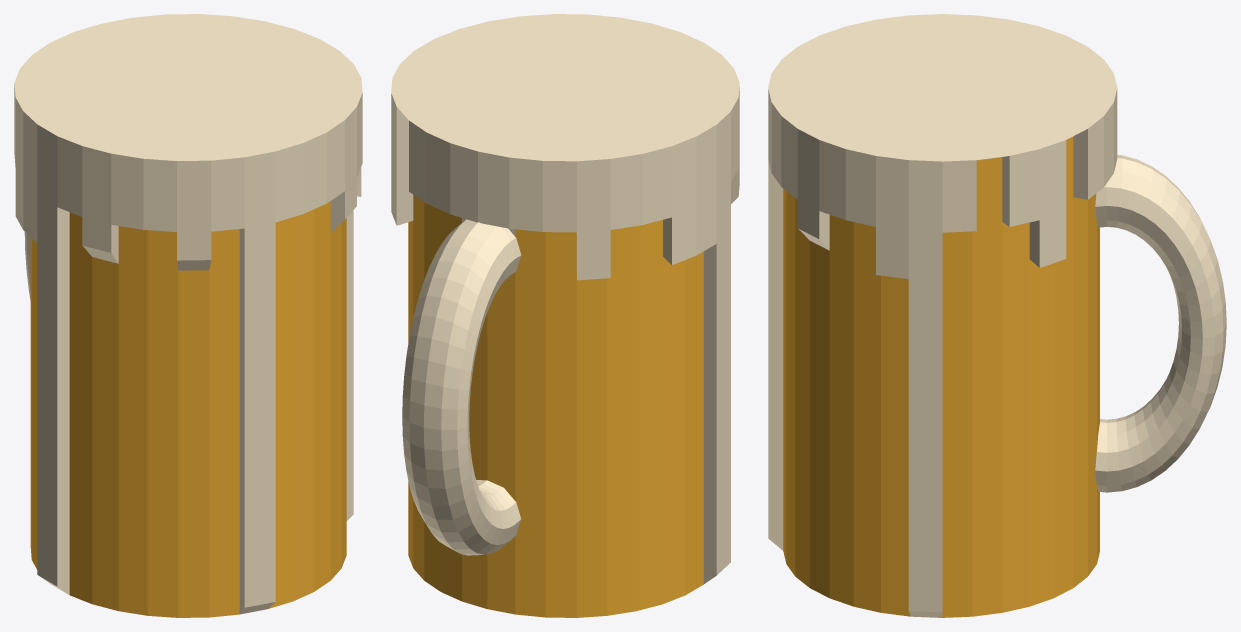
The model's file is beer.obj.
3 renders of one model, left to right at view 1: azimuth 30°, elevation 25°; view 2: azimuth 150°, elevation 25°; view 3: azimuth 270°, elevation 25°, orthographic.
Visible parts, largest first — view 1: Cylinder; view 2: Cylinder, Torus; view 3: Cylinder, Torus.
Boxes of the visible parts, left/top/right/bottom form: Cylinder: left=14, top=14, right=362, bottom=617; Cylinder: left=391, top=14, right=739, bottom=617; Torus: left=402, top=219, right=521, bottom=555; Cylinder: left=768, top=14, right=1117, bottom=617; Torus: left=1095, top=155, right=1226, bottom=492.
Size of the model in its own units: 5.58 by 8.17 by 7.33.
